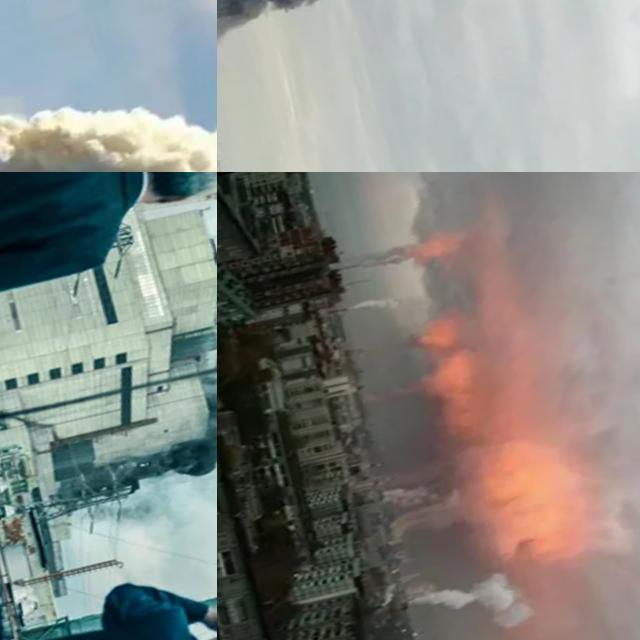smoke: (365, 172, 640, 640), (0, 26, 217, 172), (217, 0, 640, 69)
